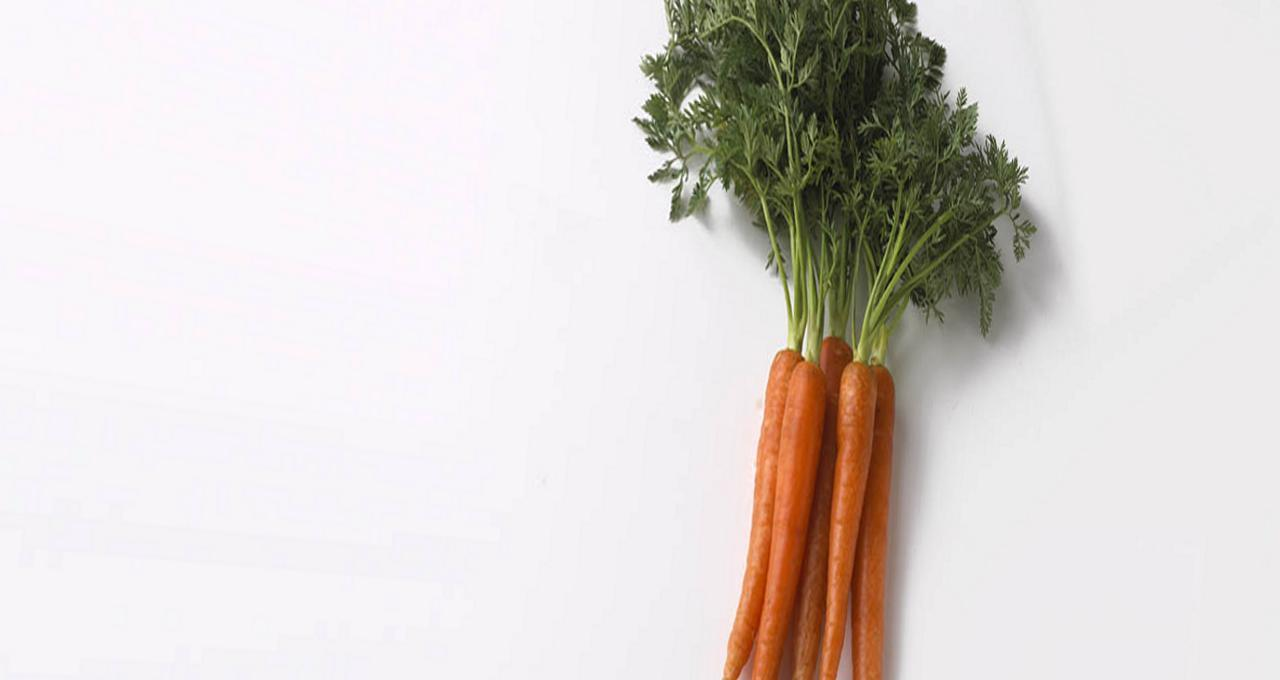carrot: (747, 335, 933, 680), (816, 351, 905, 680), (754, 361, 808, 680)
